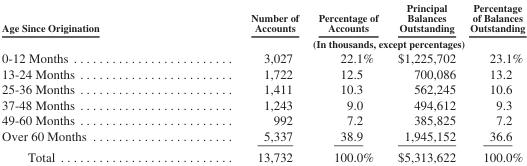table: (1, 1, 524, 163)
table column: (1, 1, 174, 163), (174, 1, 307, 163), (307, 1, 387, 163), (387, 1, 462, 163), (462, 1, 524, 163)
table column header: (1, 1, 524, 50)
table row: (1, 1, 524, 35), (1, 127, 524, 145), (1, 145, 524, 163), (1, 65, 524, 81), (1, 96, 524, 112), (1, 35, 524, 50), (1, 50, 524, 65), (1, 81, 524, 96), (1, 112, 524, 127)
table spanning cell: (1, 1, 174, 50), (174, 35, 524, 50)
